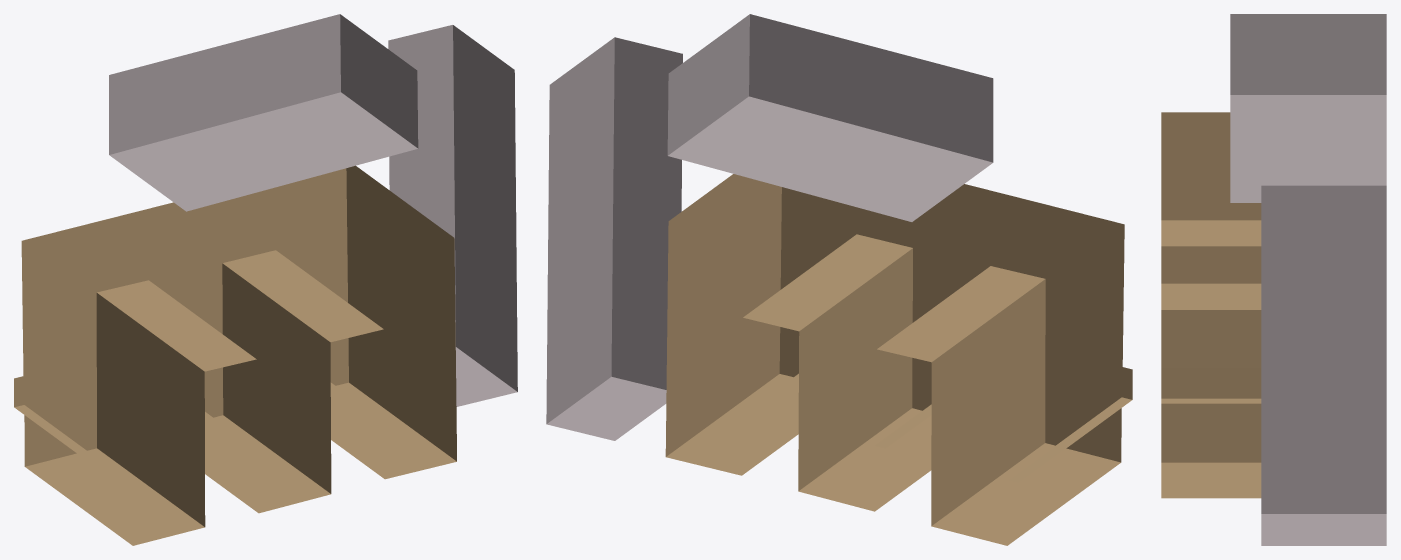
3 views of the same model, side by side, from view 1: azimuth 30°, elevation 25°; view 2: azimuth 150°, elevation 25°; view 3: azimuth 270°, elevation 25° (orthographic). The views are drawn at different scales.
Visible parts, largest first — view 1: 0_0_1_3_1_1_1_3_3; view 2: 0_0_1_3_1_1_1_3_3; view 3: 0_0_1_3_1_1_1_3_3.
Part boxes in pixels (x1,y1,x2,y2): 0_0_1_3_1_1_1_3_3: [14, 14, 517, 545]; 0_0_1_3_1_1_1_3_3: [546, 14, 1132, 545]; 0_0_1_3_1_1_1_3_3: [1161, 14, 1386, 545].
Bounding box in the file's own units: 49.9 × 39.95 × 21.6.
